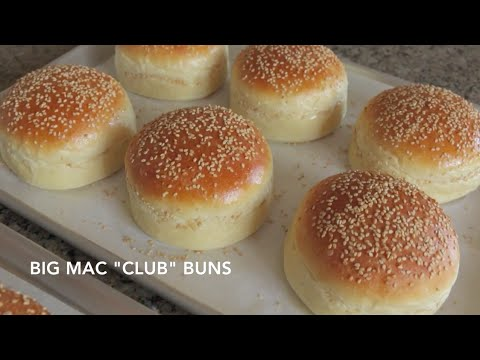hamburger_buns: (291, 164, 458, 317), (128, 98, 268, 251), (352, 70, 480, 200)
